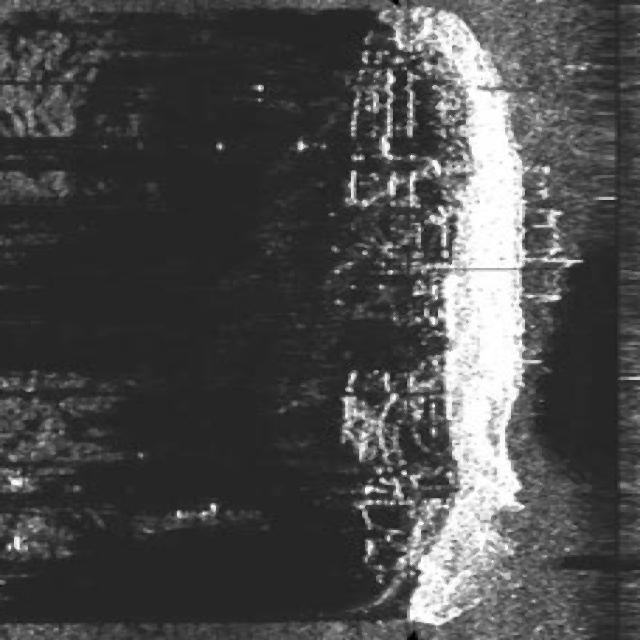Ship: (287, 1, 538, 631)
